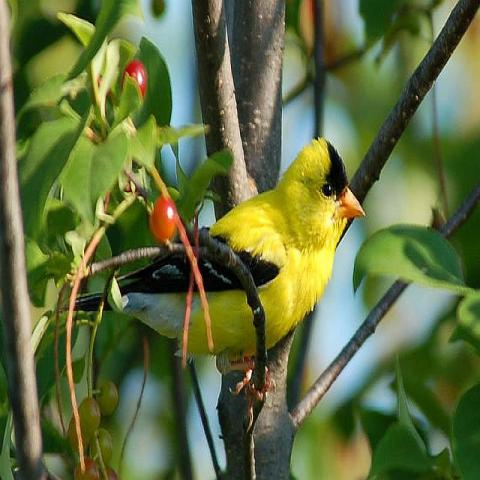bird: (57, 132, 367, 372)
